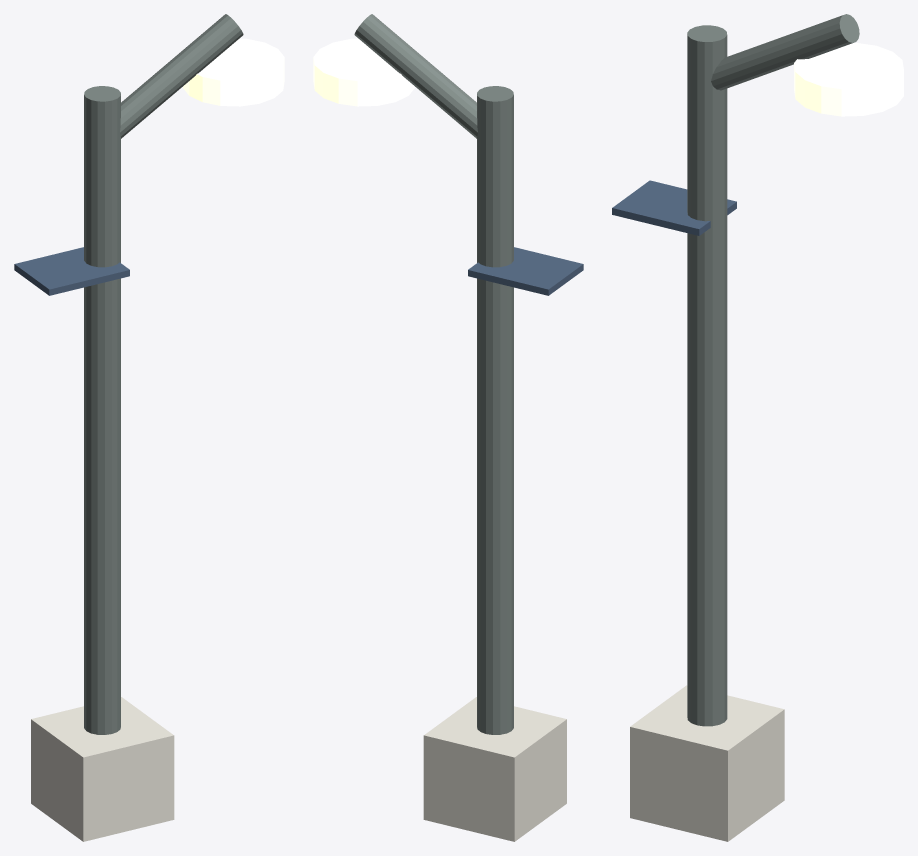
File: ModernLampPost.fbx
The picture shows the model from 3 angles, left to right: view 1: azimuth 30°, elevation 25°; view 2: azimuth 150°, elevation 25°; view 3: azimuth 330°, elevation 25°; orthographic projection. The views are drawn at different scales.
Parts seen in each view (by area): view 1: Lamp_Pole, Lamp_ConcreteBase, Lamp_Head, Lamp_Arm, Lamp_Solar; view 2: Lamp_Pole, Lamp_ConcreteBase, Lamp_Head, Lamp_Arm, Lamp_Solar; view 3: Lamp_Pole, Lamp_ConcreteBase, Lamp_Head, Lamp_Arm, Lamp_Solar.
Boxes of the visible parts, <box> form: Lamp_Pole: <box>84,86,120,734</box>; Lamp_ConcreteBase: <box>31,697,174,841</box>; Lamp_Head: <box>183,38,284,106</box>; Lamp_Arm: <box>120,14,243,138</box>; Lamp_Solar: <box>14,247,129,295</box>; Lamp_Pole: <box>477,86,513,734</box>; Lamp_ConcreteBase: <box>423,697,566,841</box>; Lamp_Head: <box>313,38,414,106</box>; Lamp_Arm: <box>354,14,477,138</box>; Lamp_Solar: <box>468,247,583,295</box>; Lamp_Pole: <box>687,25,727,726</box>; Lamp_ConcreteBase: <box>630,685,784,841</box>; Lamp_Head: <box>794,42,903,116</box>; Lamp_Arm: <box>711,14,859,90</box>; Lamp_Solar: <box>612,180,736,235</box>.
Bounding box in the file's own units: 122 × 363 × 45.
